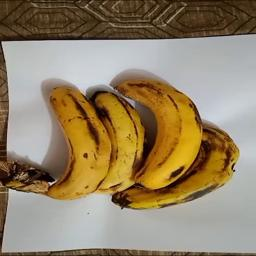Banana Semifresh: (3, 83, 112, 199), (115, 71, 208, 190), (112, 148, 238, 208), (94, 82, 148, 199)
